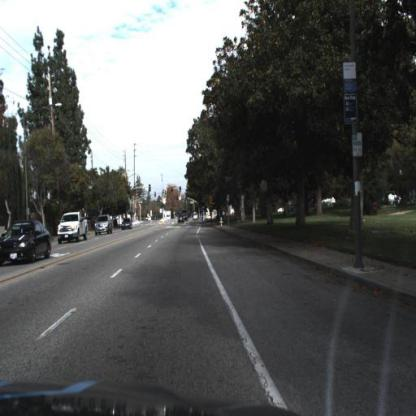car: (2, 223, 53, 267), (58, 210, 89, 245), (94, 215, 114, 238), (175, 215, 186, 231), (122, 219, 134, 233), (188, 213, 197, 229)
